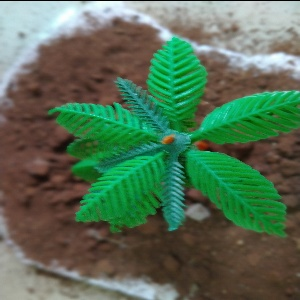plant: (57, 46, 280, 231)
